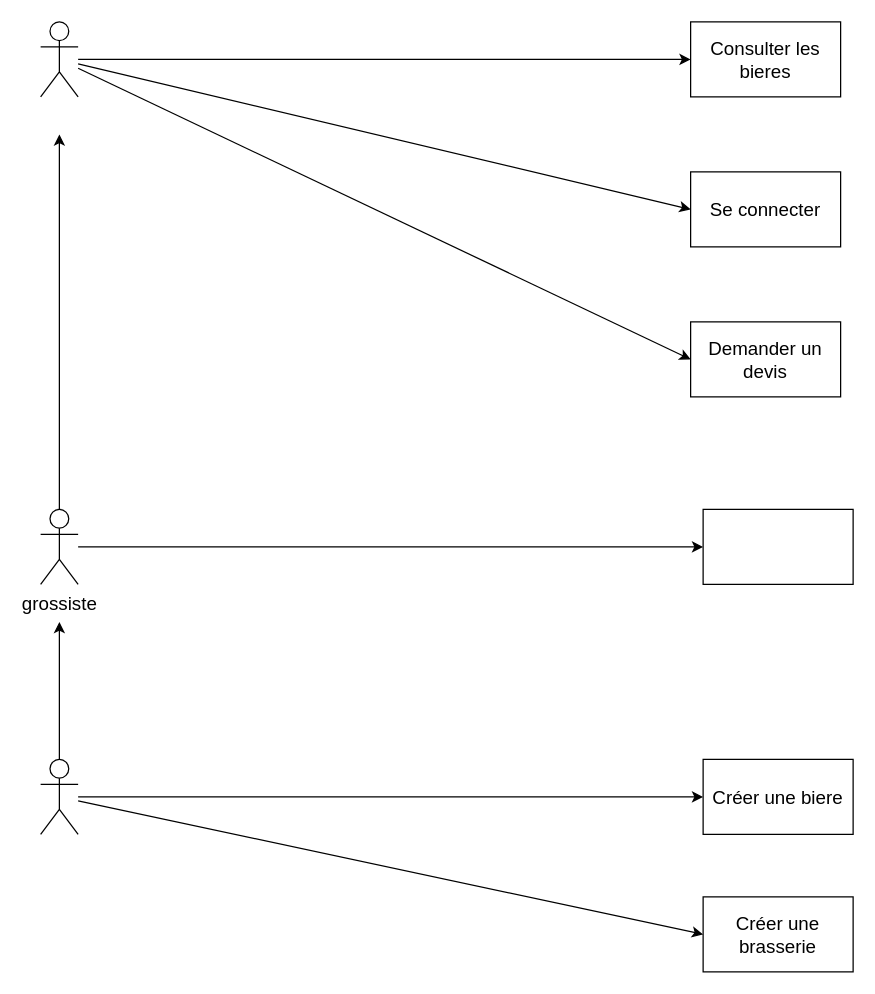
Image size: 875x994. Some labels were removed from this diagram. The shapes that lost their labels are listed below. From the top down, each one's centre as x and y in pixels, then its label:
point 58,59: quidam
point 777,546: Mettre à jour son stock de biere
point 58,796: admin
